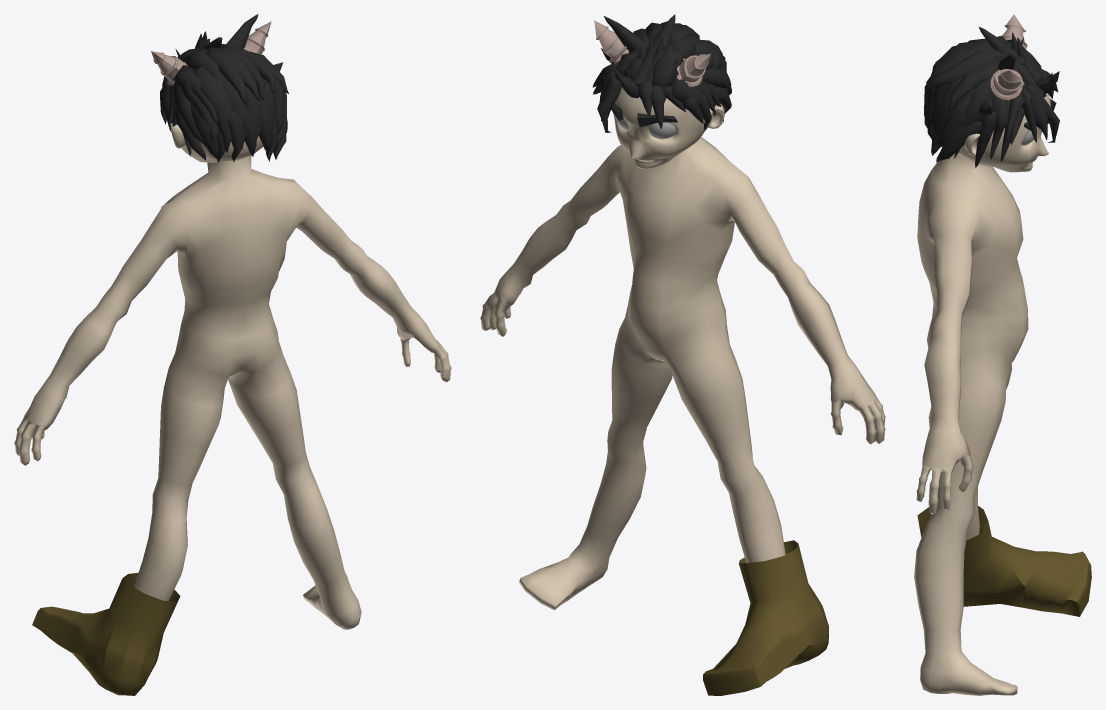
File: soulier2.fbx
The picture shows the model from 3 angles, left to right: view 1: azimuth 30°, elevation 25°; view 2: azimuth 150°, elevation 25°; view 3: azimuth 270°, elevation 25°; orthographic projection. The views are drawn at different scales.
Visible parts, largest first — view 1: CharacterFullAlienConspiracyStyle2:Alien02, polySurface84; view 2: CharacterFullAlienConspiracyStyle2:Alien02, polySurface84; view 3: CharacterFullAlienConspiracyStyle2:Alien02, polySurface84.
Part boxes in pixels (box(x1,y1,x2,y2)): CharacterFullAlienConspiracyStyle2:Alien02: box(14, 14, 451, 629); polySurface84: box(32, 572, 180, 695); CharacterFullAlienConspiracyStyle2:Alien02: box(480, 14, 885, 610); polySurface84: box(703, 540, 828, 695); CharacterFullAlienConspiracyStyle2:Alien02: box(914, 14, 1059, 695); polySurface84: box(917, 506, 1091, 616).
Size of the model in its own units: 116 by 167 by 42.35.
